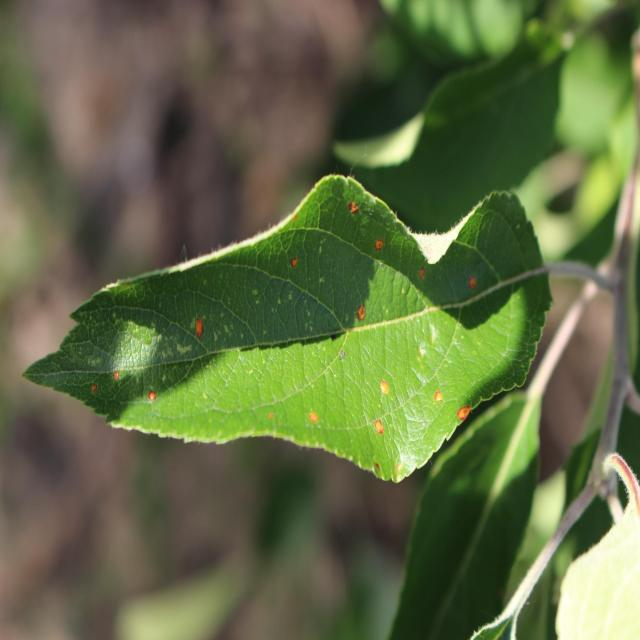Rust: (188, 305, 211, 348), (141, 378, 163, 418), (411, 257, 432, 296), (464, 268, 486, 303), (348, 303, 372, 334), (303, 399, 325, 432), (454, 403, 478, 428), (372, 411, 388, 447), (375, 373, 395, 399), (371, 237, 387, 266), (108, 362, 126, 387), (289, 250, 305, 276), (348, 193, 363, 220), (85, 381, 101, 404), (433, 388, 447, 413), (372, 452, 382, 484), (267, 403, 277, 427)
